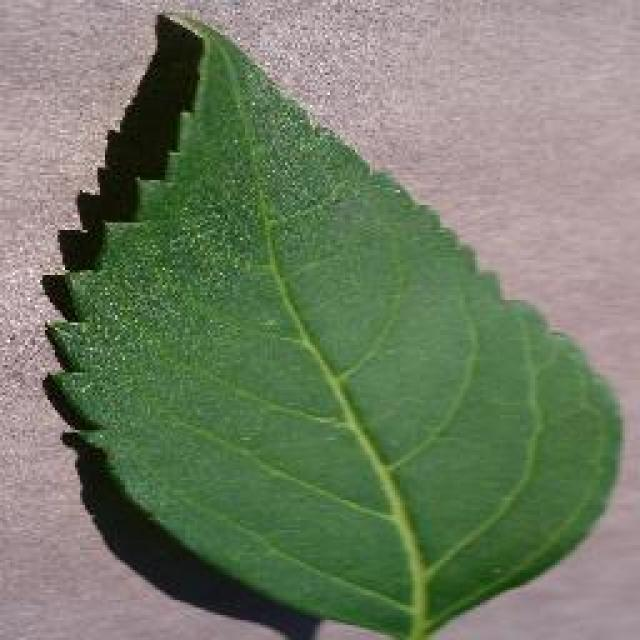Cherry___healthy: (35, 2, 630, 640)
